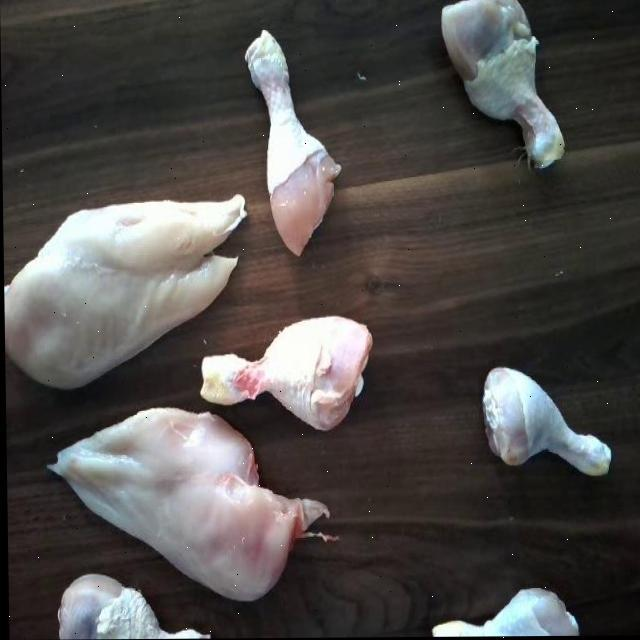breast: (44, 402, 316, 594), (2, 190, 234, 381)
leg: (439, 0, 572, 178), (192, 314, 378, 439), (242, 32, 342, 255), (470, 367, 614, 492), (38, 569, 214, 640), (414, 584, 590, 638)
